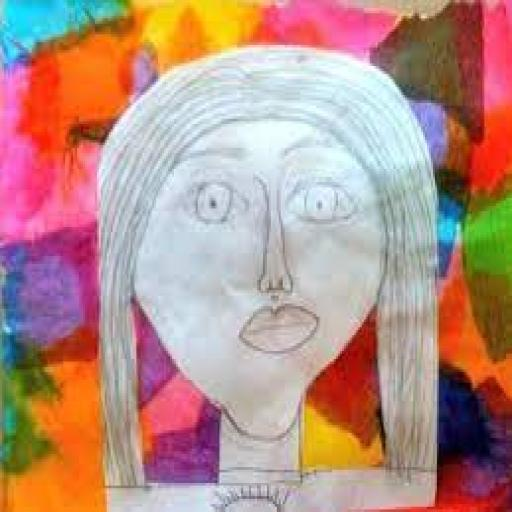person: (92, 46, 444, 502)
